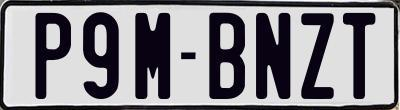9: (82, 11, 122, 100)
B: (207, 12, 246, 104)
M: (133, 10, 174, 97)
N: (256, 11, 291, 102)
P: (33, 12, 73, 99)
T: (341, 11, 376, 102)
Z: (300, 12, 335, 100)
